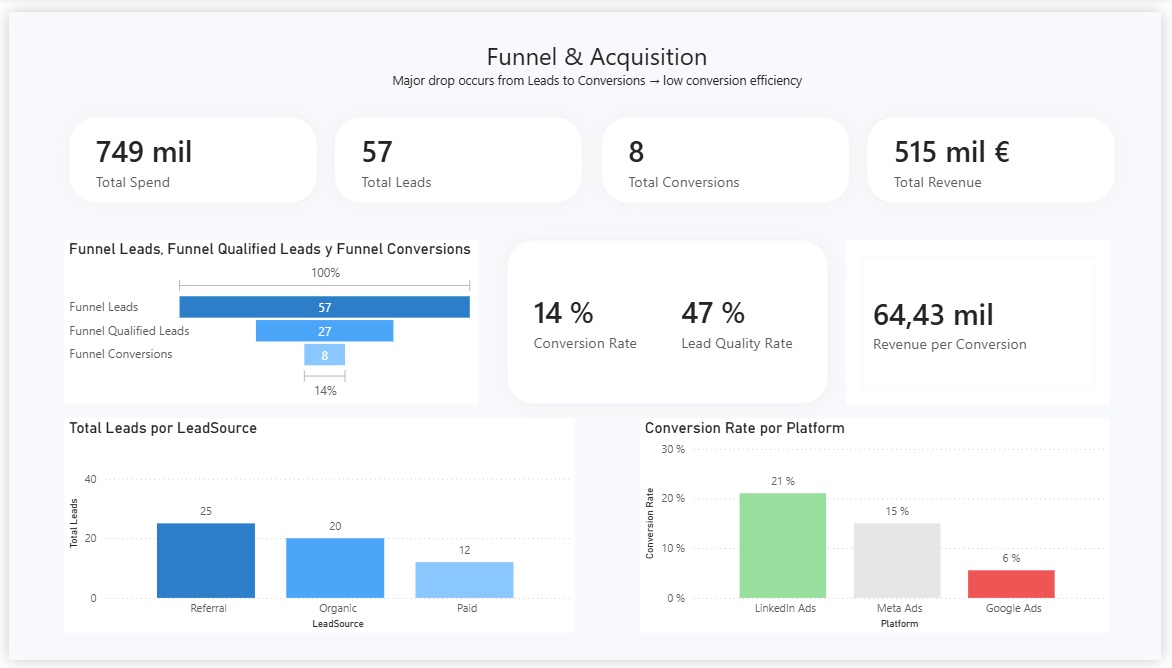

This screenshot's page, from the dashboard's own definition file:
{"tool":"powerbi","page":{"name":"FUNNEL & ACQUISITION","canvas":[1280,720],"ordinal":2},"visuals":[{"type":"cardVisual","fields":{"Data":["campaigns.Total Spend"]},"box":[66.3,116.8,275,95],"z":0},{"type":"textbox","box":[291.7,25,723.3,106.7],"z":1000},{"type":"cardVisual","fields":{"Data":["campaigns.Total Leads"]},"box":[362,116.8,275,95],"z":2000},{"type":"cardVisual","fields":{"Data":["campaigns.Total Conversions"]},"box":[657.7,116.8,275,95],"z":3000},{"type":"cardVisual","fields":{"Data":["campaigns.Total Revenue"]},"box":[953.3,116.8,275,95],"z":4000},{"type":"funnel","fields":{"Y":["campaigns.Funnel Leads","campaigns.Funnel Qualified Leads","campaigns.Funnel Conversions"]},"box":[61.7,253.9,460,181.7],"z":5000},{"type":"cardVisual","fields":{"Data":["conversions.Conversion Rate","leads.Lead Quality Rate"]},"box":[553.3,253.9,356.7,181.7],"z":6000},{"type":"columnChart","fields":{"Category":["leads.LeadSource"],"Y":["campaigns.Total Leads"]},"box":[62,450.9,567,238],"z":7000},{"type":"columnChart","fields":{"Category":["campaigns.Platform"],"Y":["conversions.Conversion Rate"]},"box":[702,450.9,521,238],"z":8000},{"type":"cardVisual","fields":{"Data":["campaigns.Revenue per Qualified Lead"]},"box":[930,253.3,293.3,183.3],"z":9000}]}

Visuals, with their boxes in screenshot pixels (x1, y1, x2, y2), scaled from the page's 1280x720 canvas onto the 1172x668 screenshot:
cardVisual - campaigns.Total Spend: (left=61, top=108, right=313, bottom=197)
textbox: (left=267, top=23, right=929, bottom=122)
cardVisual - campaigns.Total Leads: (left=331, top=108, right=583, bottom=197)
cardVisual - campaigns.Total Conversions: (left=602, top=108, right=854, bottom=197)
cardVisual - campaigns.Total Revenue: (left=873, top=108, right=1125, bottom=197)
funnel - campaigns.Funnel Leads x campaigns.Funnel Qualified Leads: (left=56, top=236, right=478, bottom=404)
cardVisual - conversions.Conversion Rate x leads.Lead Quality Rate: (left=507, top=236, right=833, bottom=404)
columnChart - leads.LeadSource x campaigns.Total Leads: (left=57, top=418, right=576, bottom=639)
columnChart - campaigns.Platform x conversions.Conversion Rate: (left=643, top=418, right=1120, bottom=639)
cardVisual - campaigns.Revenue per Qualified Lead: (left=852, top=235, right=1120, bottom=405)
